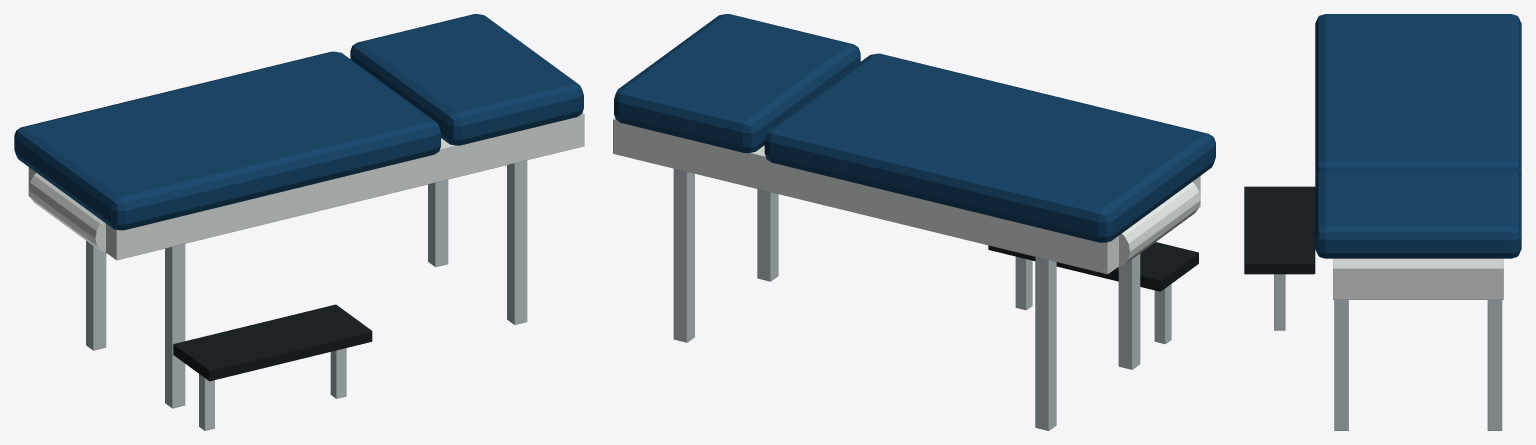
File: edited.glb
3 renders of one model, left to right at view 1: azimuth 30°, elevation 25°; view 2: azimuth 150°, elevation 25°; view 3: azimuth 270°, elevation 25°, orthographic. The views are drawn at different scales.
Parts seen in each view (by area): view 1: COUCH_Seat, BACK_Cushion, FRAME, STEP, FRAME_Leg.002, FRAME_Leg, PAPER_Roll, FRAME_Leg.001, FRAME_Leg.003, STEP_Foot, STEP_Foot.001; view 2: COUCH_Seat, BACK_Cushion, FRAME, FRAME_Leg.003, FRAME_Leg.001, PAPER_Roll, STEP, FRAME_Leg, FRAME_Leg.002, STEP_Foot, STEP_Foot.001; view 3: COUCH_Seat, BACK_Cushion, FRAME, STEP, FRAME_Leg.003, FRAME_Leg.002, STEP_Foot.001.
Part boxes in pixels (x1,y1,x2,y2): COUCH_Seat: [14, 51, 440, 230]; BACK_Cushion: [350, 14, 583, 145]; FRAME: [28, 112, 584, 260]; STEP: [173, 304, 372, 381]; FRAME_Leg.002: [507, 160, 527, 324]; FRAME_Leg: [165, 244, 185, 408]; PAPER_Roll: [28, 173, 106, 253]; FRAME_Leg.001: [86, 241, 106, 350]; FRAME_Leg.003: [428, 179, 448, 267]; STEP_Foot: [199, 374, 214, 430]; STEP_Foot.001: [330, 348, 346, 398]; COUCH_Seat: [764, 53, 1215, 242]; BACK_Cushion: [614, 14, 860, 153]; FRAME: [613, 118, 1200, 274]; FRAME_Leg.003: [673, 168, 694, 342]; FRAME_Leg.001: [1035, 257, 1056, 430]; PAPER_Roll: [1117, 182, 1200, 267]; STEP: [988, 242, 1198, 291]; FRAME_Leg: [1118, 253, 1140, 369]; FRAME_Leg.002: [757, 189, 778, 281]; STEP_Foot: [1154, 284, 1171, 344]; STEP_Foot.001: [1015, 256, 1032, 310]; COUCH_Seat: [1315, 14, 1521, 179]; BACK_Cushion: [1315, 170, 1521, 258]; FRAME: [1333, 258, 1503, 299]; STEP: [1244, 186, 1315, 274]; FRAME_Leg.003: [1487, 300, 1502, 430]; FRAME_Leg.002: [1334, 300, 1348, 430]; STEP_Foot.001: [1274, 274, 1285, 330].
Bounding box in the file's own units: 1.82 × 0.84 × 0.94.
